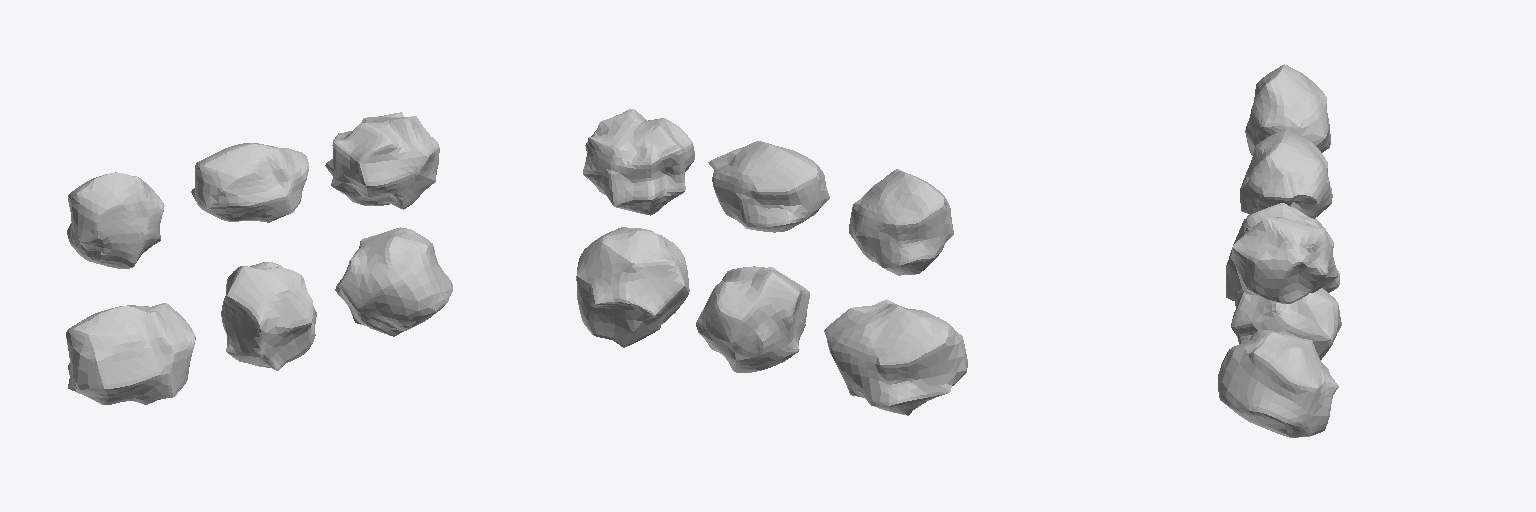
The model's file is pedras.obj.
3 views of the same model, side by side, from view 1: azimuth 30°, elevation 25°; view 2: azimuth 150°, elevation 25°; view 3: azimuth 270°, elevation 25° (orthographic).
Parts seen in each view (by area): view 1: Aster_Small_1__Cube.017; view 2: Aster_Small_1__Cube.017; view 3: Aster_Small_1__Cube.017.
Boxes of the visible parts, box(x1,y1,x2,y2) form: Aster_Small_1__Cube.017: box(66, 112, 452, 404); Aster_Small_1__Cube.017: box(576, 109, 967, 415); Aster_Small_1__Cube.017: box(1218, 64, 1341, 437).
Size of the model in its own units: 5.1 by 3.03 by 1.45.